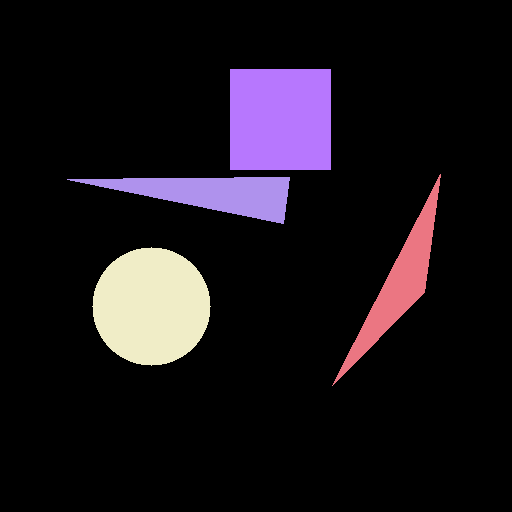circle: (92, 247, 210, 365)
square: (230, 69, 330, 169)
triangle: (332, 174, 440, 385), (67, 177, 289, 223)
